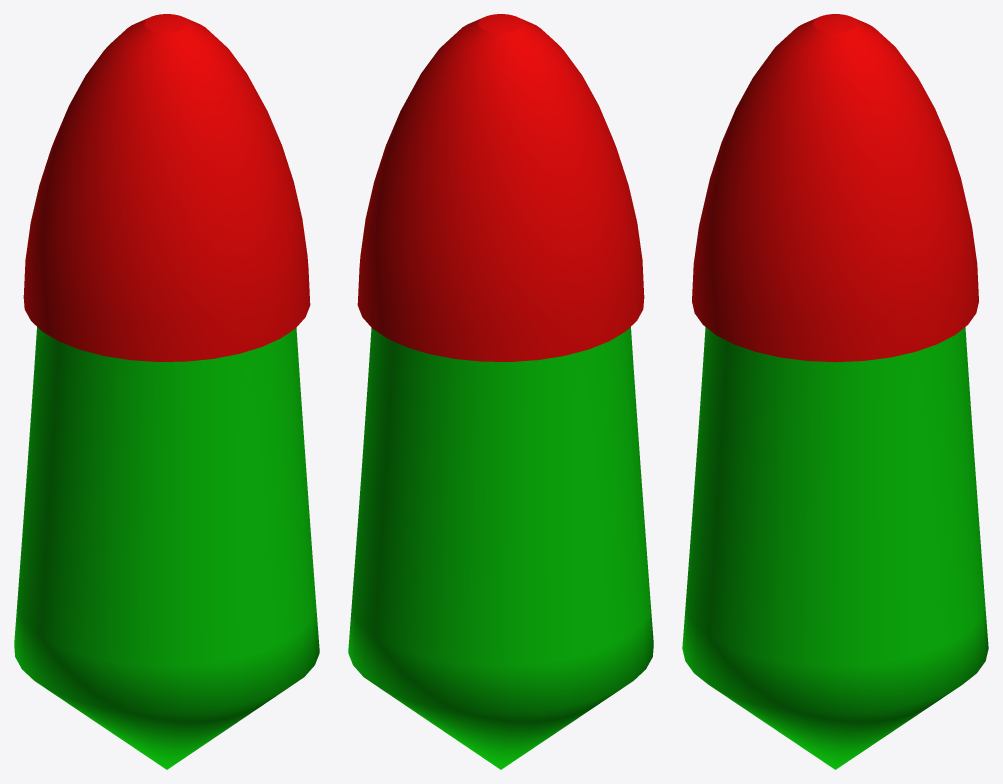
Rendered from RosyBonnet_Growth.glb.
3 renders of one model, left to right at view 1: azimuth 30°, elevation 25°; view 2: azimuth 150°, elevation 25°; view 3: azimuth 270°, elevation 25°, orthographic.
Visible parts, largest first — view 1: RosyBonnet; view 2: RosyBonnet; view 3: RosyBonnet.
Boxes of the visible parts, bbox=[...] form: RosyBonnet: bbox=[14, 14, 319, 769]; RosyBonnet: bbox=[348, 14, 653, 769]; RosyBonnet: bbox=[682, 14, 988, 769].
Size of the model in its own units: 0.0064 by 0.0173 by 0.0064.
